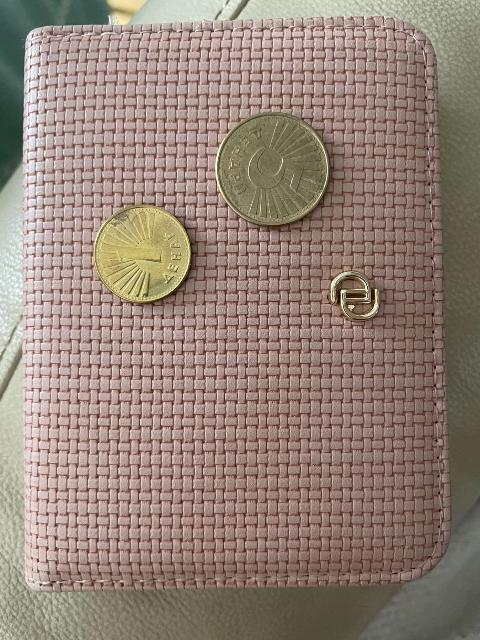1_coin: (94, 205, 190, 302)
5_coin: (216, 112, 329, 225)
